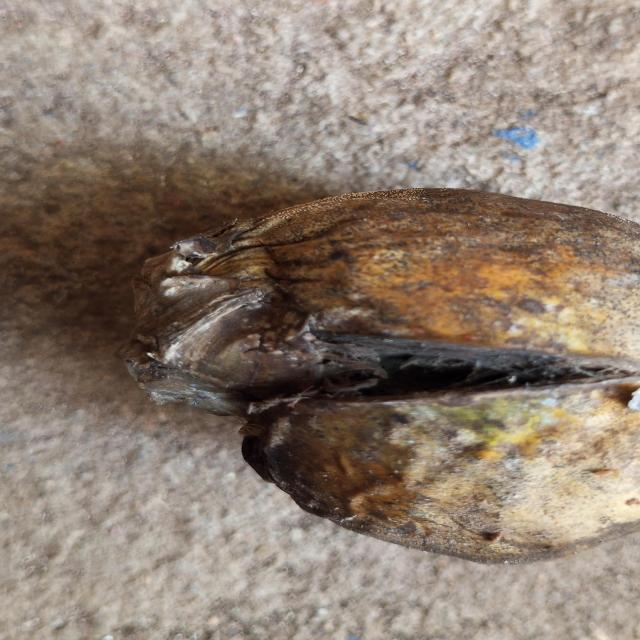damaged: (127, 189, 640, 566)
